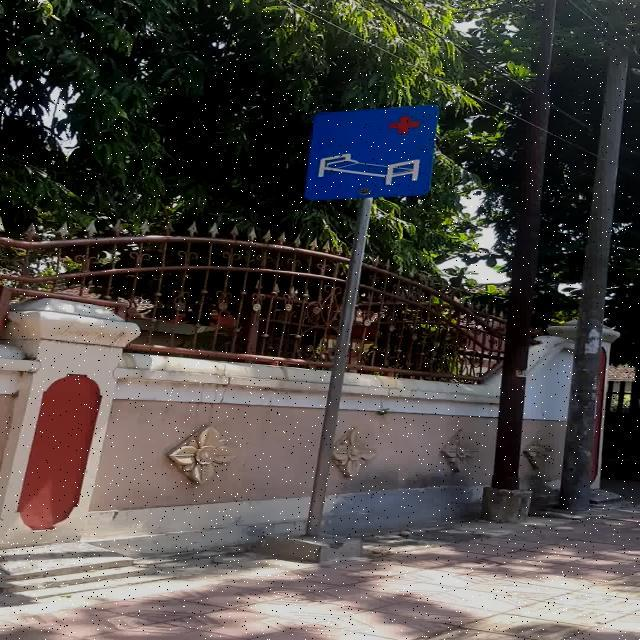Rumah Sakit: (304, 106, 437, 200)
